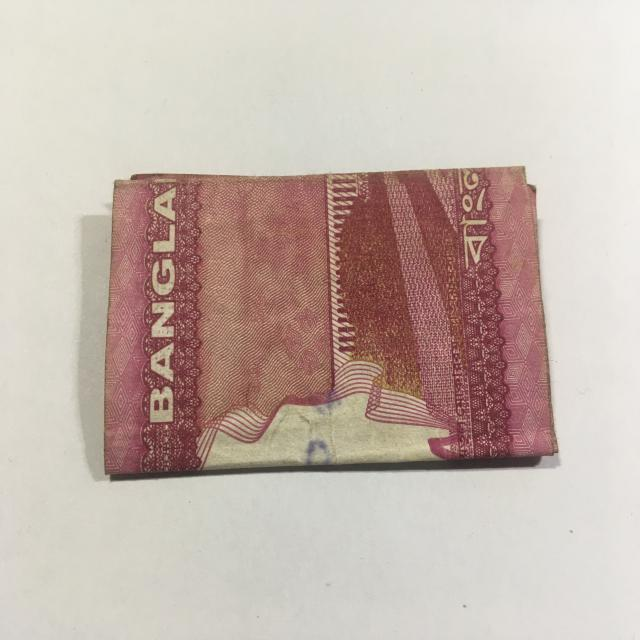Taka: (97, 154, 563, 469)
